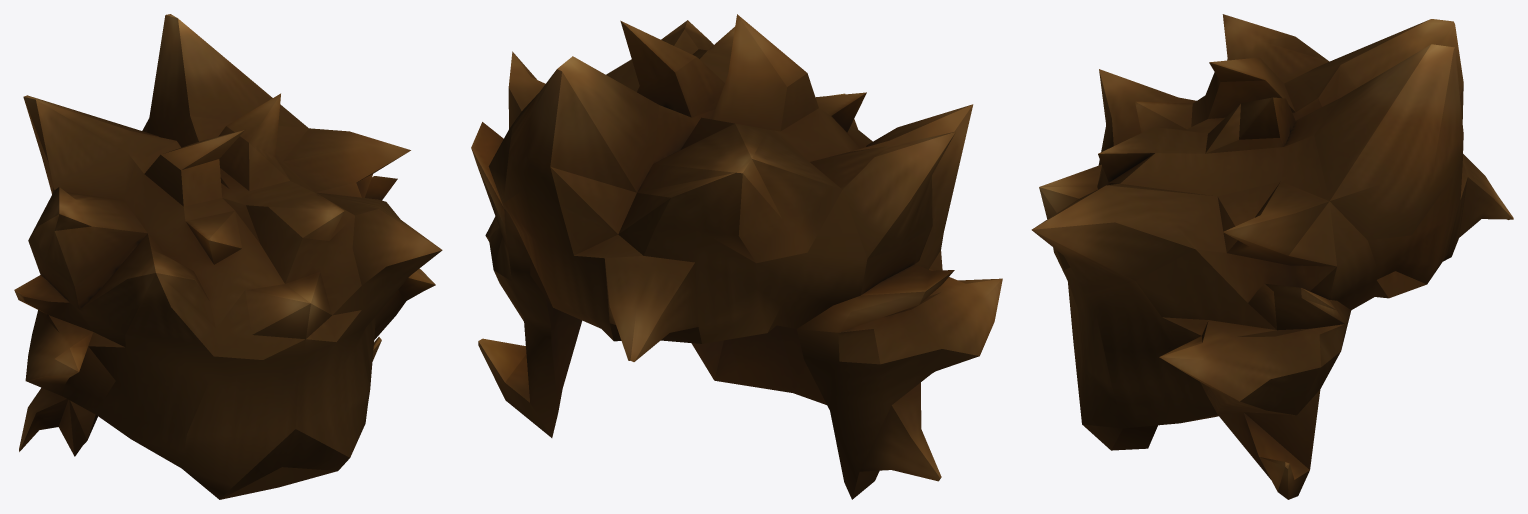
3 views of the same model, side by side, from view 1: azimuth 30°, elevation 25°; view 2: azimuth 150°, elevation 25°; view 3: azimuth 270°, elevation 25° (orthographic). The views are drawn at different scales.
Visible parts, largest first — view 1: geometry_0; view 2: geometry_0; view 3: geometry_0.
Boxes of the visible parts, x1,y1,x2,y2 form: geometry_0: [14, 14, 442, 499]; geometry_0: [471, 14, 1002, 499]; geometry_0: [1031, 14, 1513, 499].
Bounding box in the file's own units: 1.95 × 1.73 × 1.85.
1 material, 1 textured.
